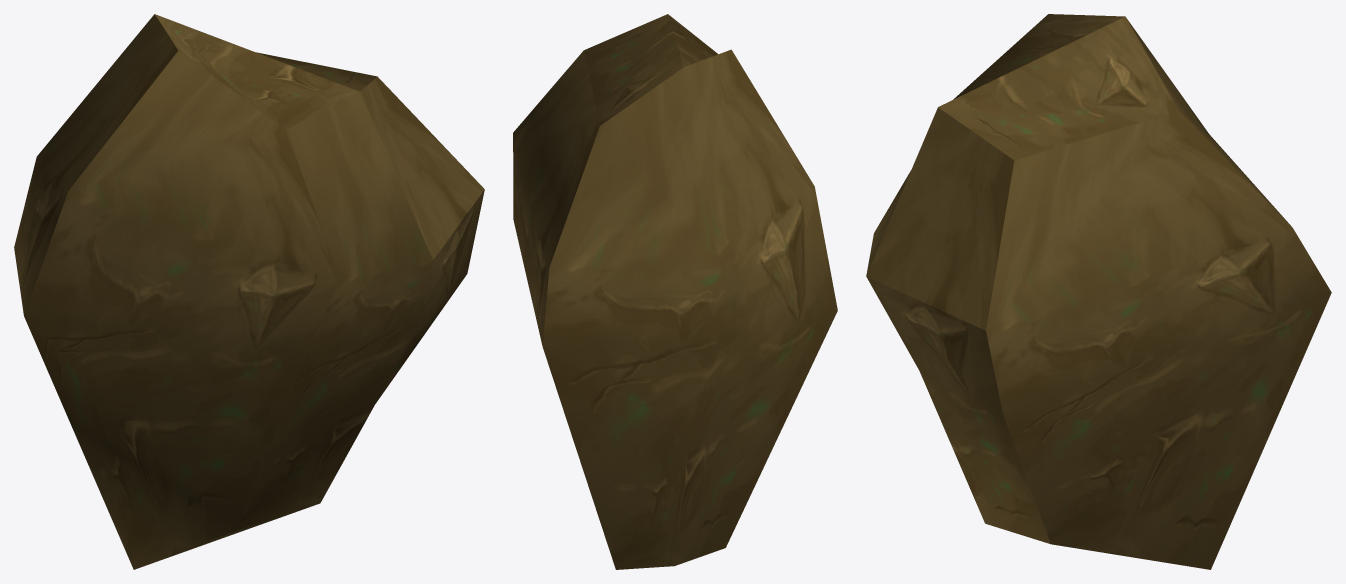
Rendered from floatingRock3.fbx.
3 renders of one model, left to right at view 1: azimuth 30°, elevation 25°; view 2: azimuth 150°, elevation 25°; view 3: azimuth 270°, elevation 25°, orthographic. The views are drawn at different scales.
Parts seen in each view (by area): view 1: Box087; view 2: Box087; view 3: Box087.
Part boxes in pixels (x1,y1,x2,y2): Box087: [14, 14, 484, 569]; Box087: [513, 14, 837, 569]; Box087: [866, 14, 1331, 569].
Size of the model in its own units: 27.79 by 34.7 by 27.24.
Materials: 1 (1 with a texture image).
